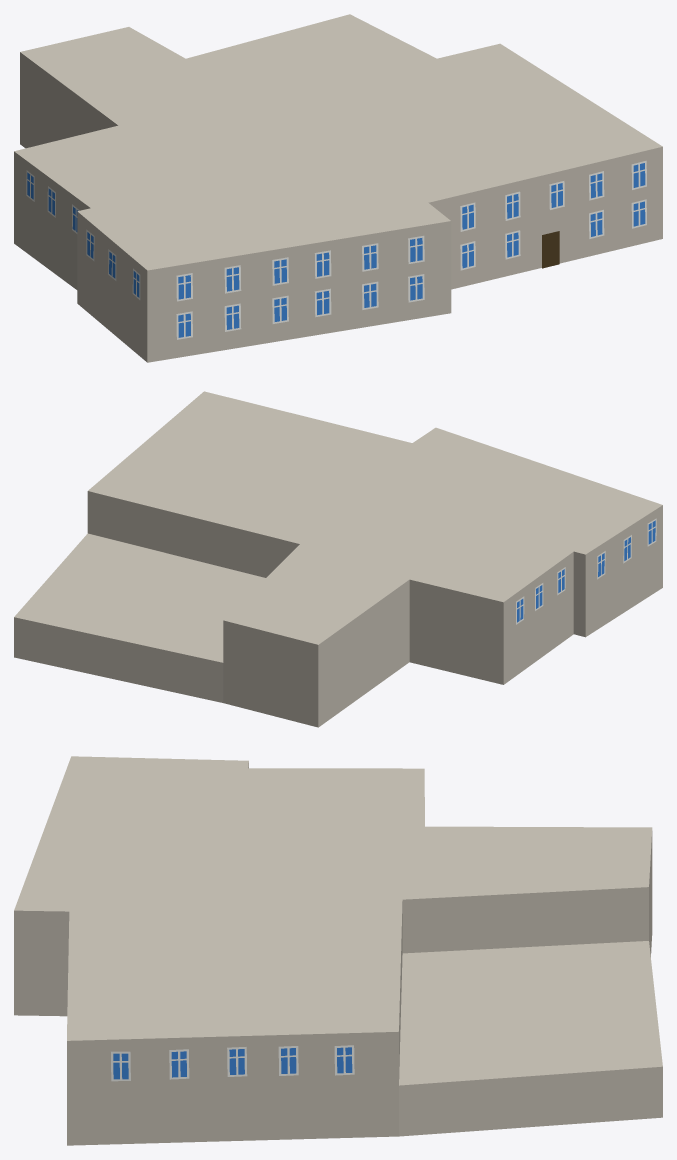
The picture shows the model from 3 angles, top to bottom: view 1: azimuth 30°, elevation 25°; view 2: azimuth 150°, elevation 25°; view 3: azimuth 270°, elevation 25°; orthographic projection. The views are drawn at different scales.
Visible parts, largest first — view 1: Плоскость.665; view 2: Плоскость.665; view 3: Плоскость.665.
Boxes of the visible parts, x1,y1,x2,y2 form: Плоскость.665: (14, 14, 662, 362); Плоскость.665: (14, 391, 662, 727); Плоскость.665: (14, 756, 662, 1145).
Bounding box in the file's own units: 341 × 58.43 × 328.
